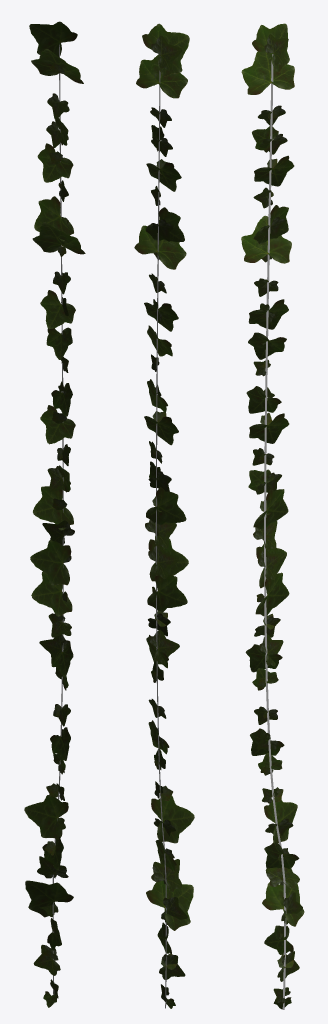
File: SM_Ivy_BezierCurve_006.fbx
The picture shows the model from 3 angles, left to right: view 1: azimuth 30°, elevation 25°; view 2: azimuth 210°, elevation 25°; view 3: azimuth 270°, elevation 25°; orthographic projection.
Parts seen in each view (by area): view 1: SM_Ivy_BezierCurve_006_LOD0; view 2: SM_Ivy_BezierCurve_006_LOD0; view 3: SM_Ivy_BezierCurve_006_LOD0.
Part boxes in pixels (x1=…): SM_Ivy_BezierCurve_006_LOD0: x1=24, y1=21, x2=85, y2=1007; SM_Ivy_BezierCurve_006_LOD0: x1=134, y1=23, x2=194, y2=1008; SM_Ivy_BezierCurve_006_LOD0: x1=241, y1=23, x2=304, y2=1009.
Size of the model in its own units: 10.38 by 15.43 by 210.
